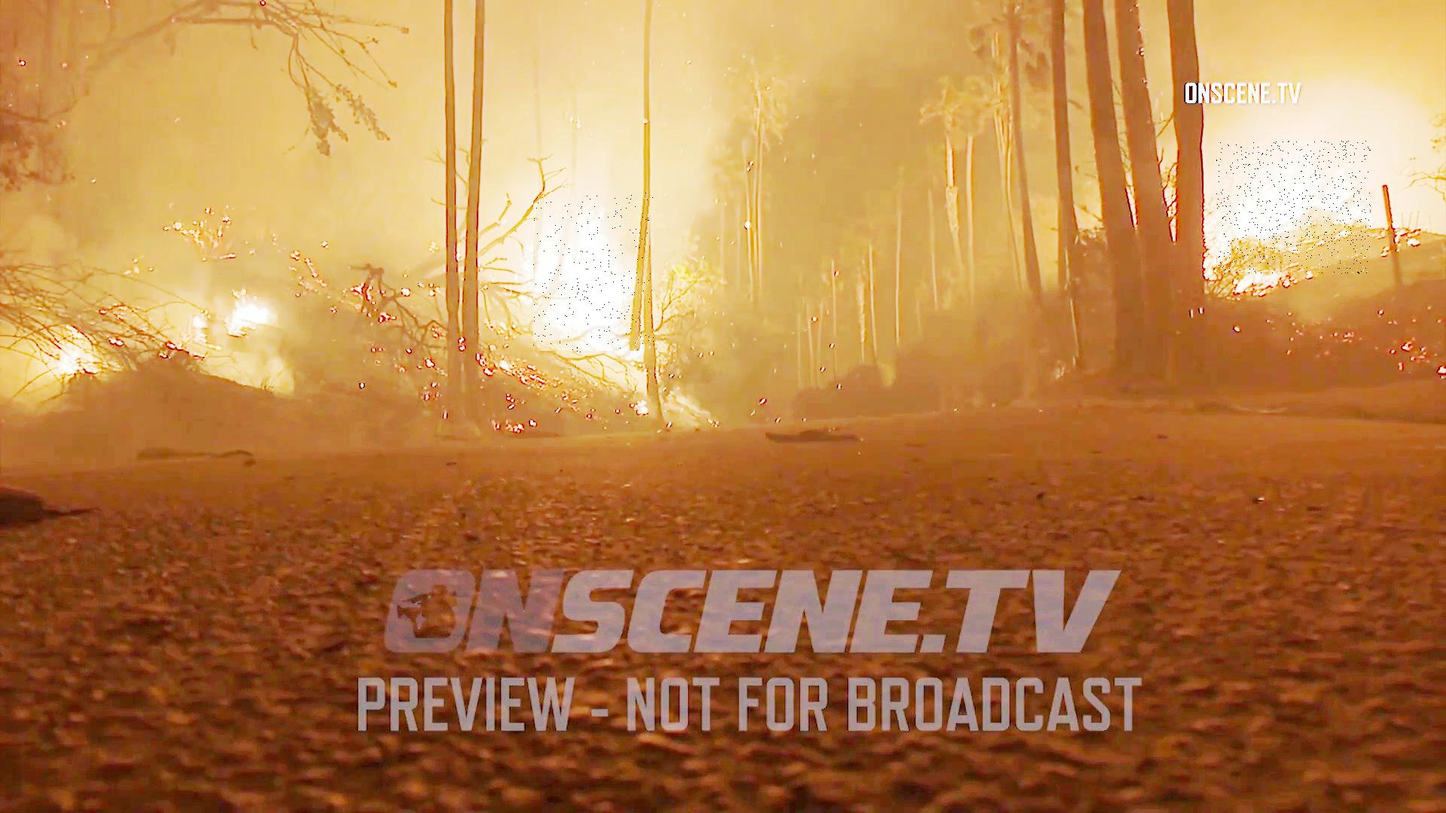fire: (1217, 141, 1371, 275), (533, 192, 654, 353)
